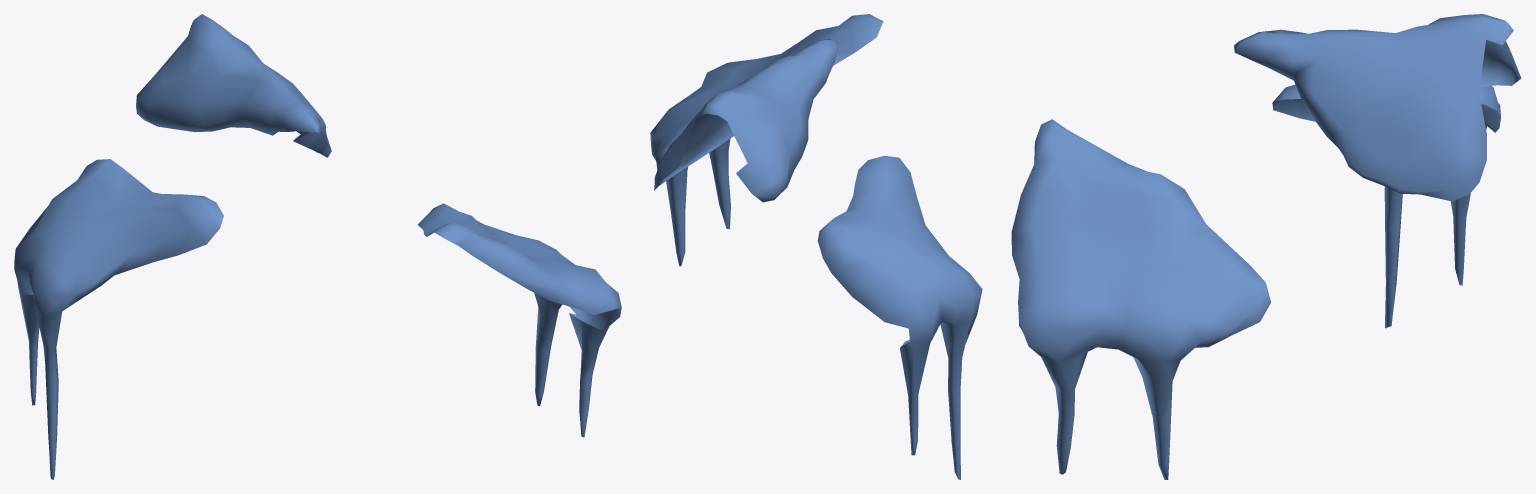
File: snow_roof.fbx
The picture shows the model from 3 angles, left to right: view 1: azimuth 30°, elevation 25°; view 2: azimuth 150°, elevation 25°; view 3: azimuth 270°, elevation 25°; orthographic projection. The views are drawn at different scales.
Parts seen in each view (by area): view 1: snow_roof1; view 2: snow_roof1; view 3: snow_roof1.
Boxes of the visible parts, bbox=[...] form: snow_roof1: bbox=[14, 14, 621, 479]; snow_roof1: bbox=[650, 14, 982, 479]; snow_roof1: bbox=[1011, 14, 1521, 479].
Size of the model in its own units: 653 by 551 by 607.
